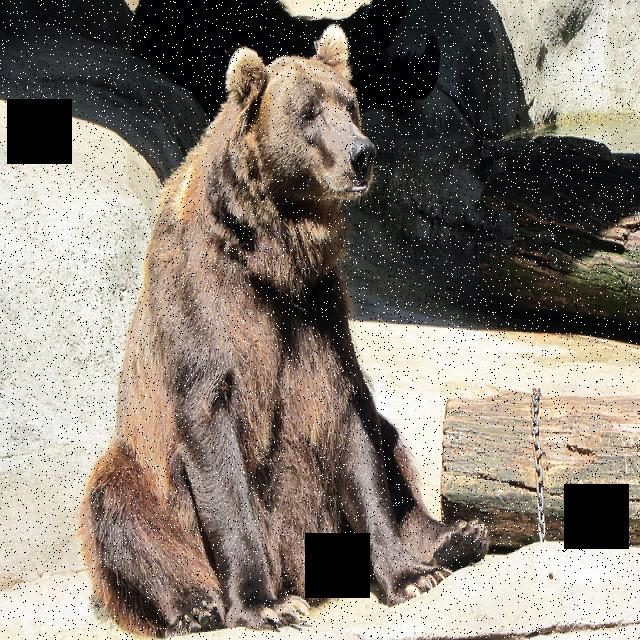Bear: (86, 24, 496, 640)
